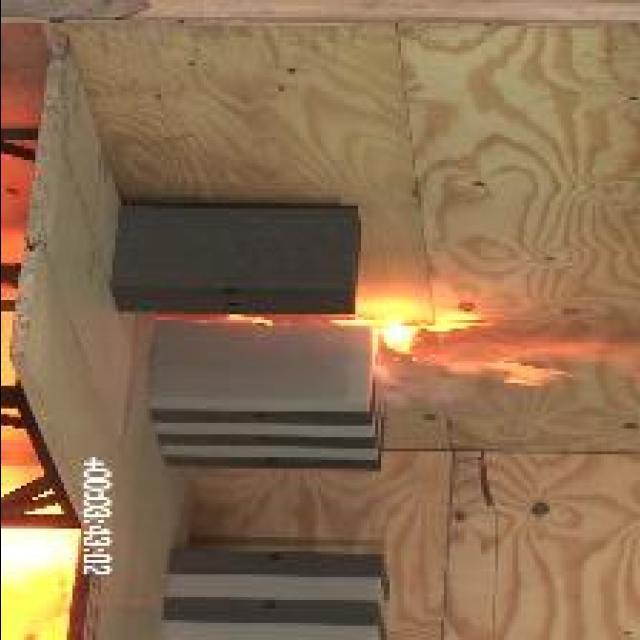Fire: (340, 316, 640, 388)
